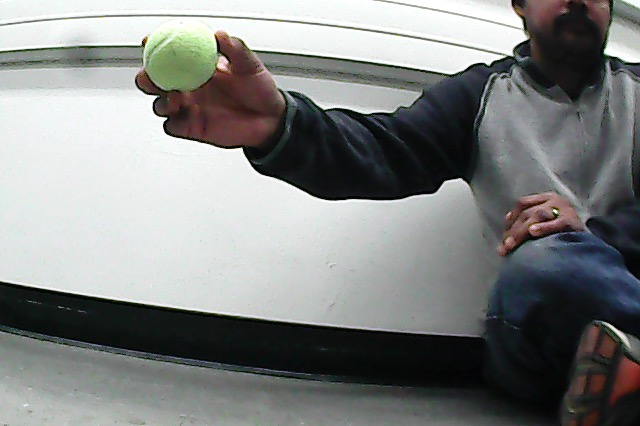ball: (142, 15, 222, 97)
